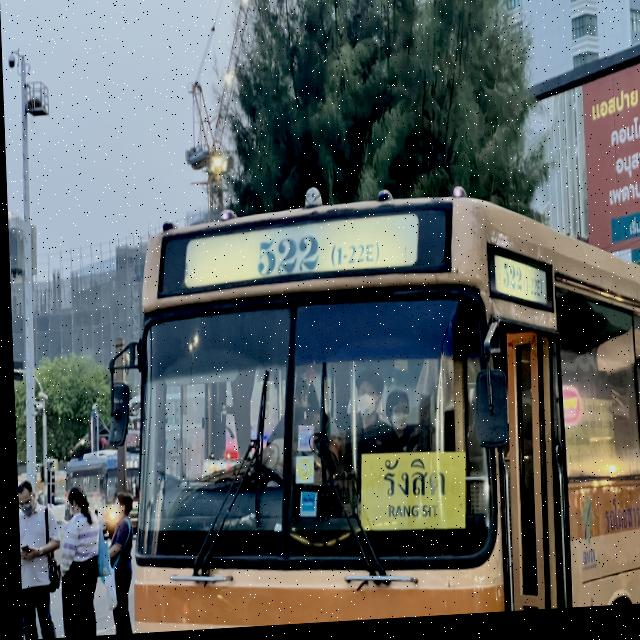BMTA-bus: (102, 161, 640, 636)
Bus-Line-Number: (242, 224, 384, 283)
Destination-Sign-Normal-Expressway: (361, 456, 468, 541)
